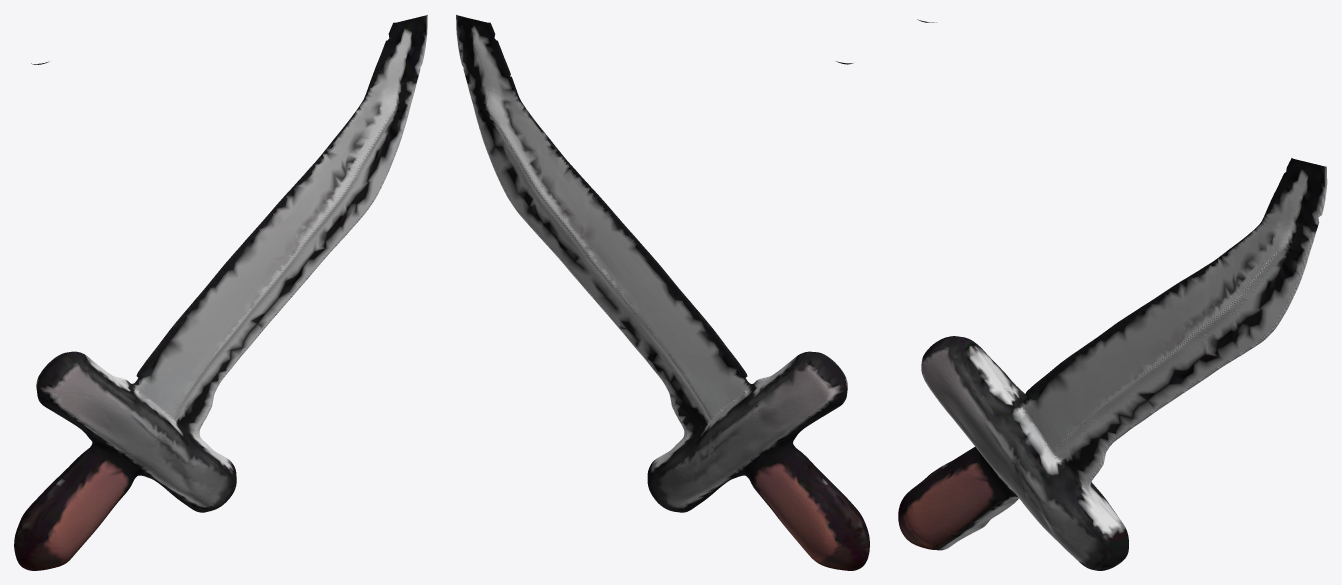
The model's file is scimitar.glb.
3 views of the same model, side by side, from view 1: azimuth 30°, elevation 25°; view 2: azimuth 150°, elevation 25°; view 3: azimuth 330°, elevation 25° (orthographic). The views are drawn at different scales.
Visible parts, largest first — view 1: geometry_0; view 2: geometry_0; view 3: geometry_0.
Boxes of the visible parts, x1,y1,x2,y2 form: geometry_0: [14, 14, 427, 570]; geometry_0: [456, 14, 869, 570]; geometry_0: [898, 19, 1327, 570].
Size of the model in its own units: 0.7812 by 0.9244 by 0.1179.
